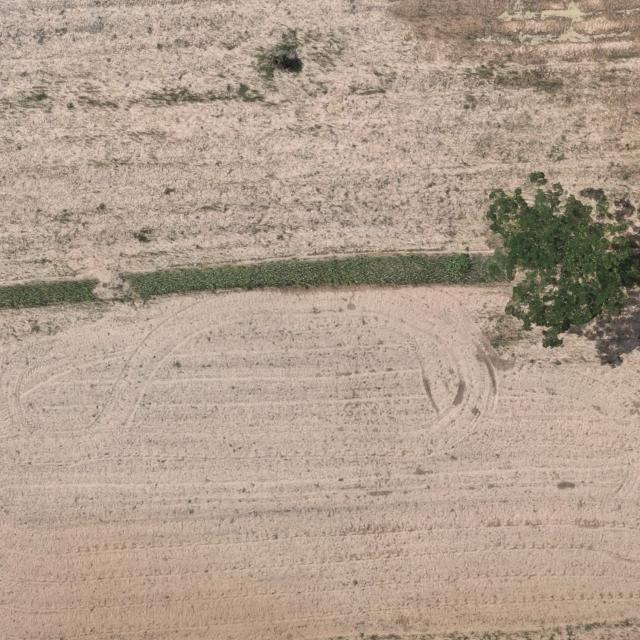Tree: (485, 170, 634, 349)
